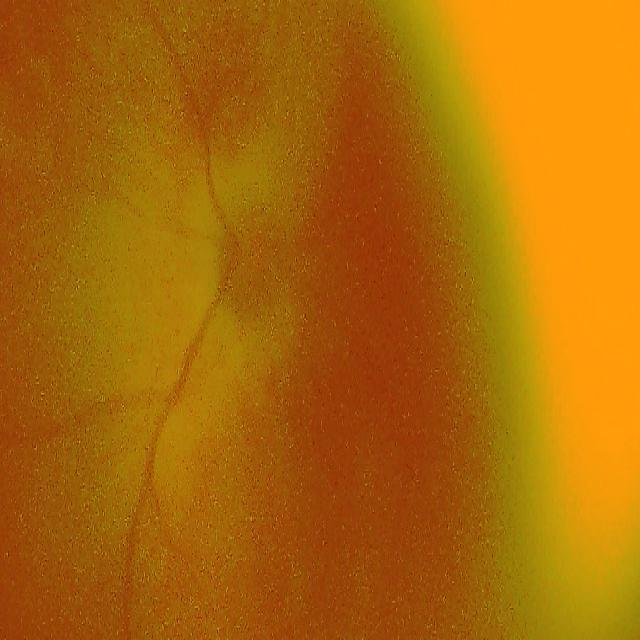optic-nerve: (198, 187, 306, 336)
